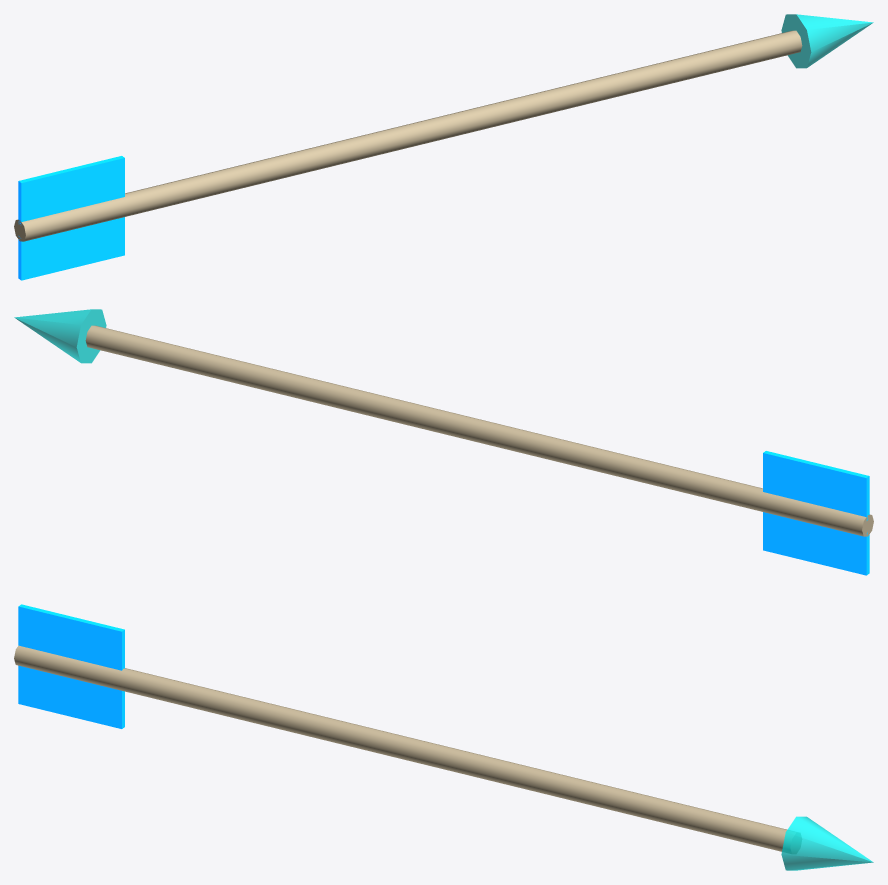
Rendered from ice_arrow.glb.
3 views of the same model, one above another, from view 1: azimuth 30°, elevation 25°; view 2: azimuth 150°, elevation 25°; view 3: azimuth 330°, elevation 25° (orthographic).
Visible parts, largest first — view 1: Arrow; view 2: Arrow; view 3: Arrow.
Boxes of the visible parts, x1=… form: Arrow: x1=14, y1=14, x2=873, y2=280; Arrow: x1=14, y1=309, x2=873, y2=575; Arrow: x1=14, y1=604, x2=873, y2=870.
Size of the model in its own units: 1.65 by 0.18 by 0.1.
